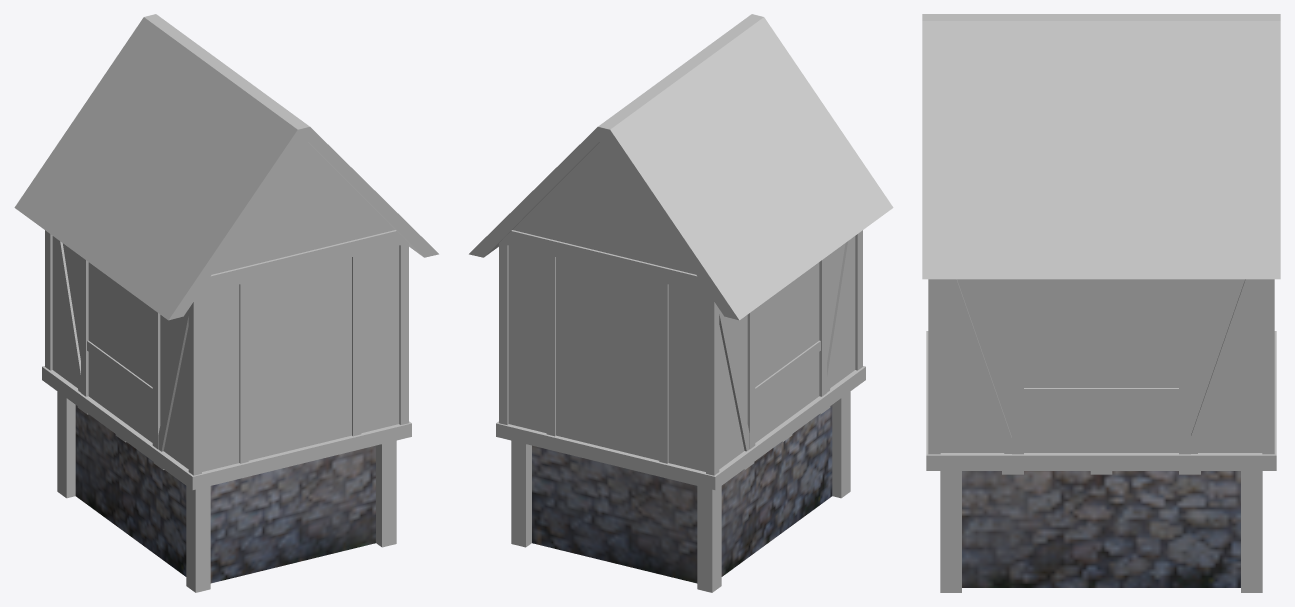
Rendered from MS_House_Medium_1.fbx.
3 views of the same model, side by side, from view 1: azimuth 30°, elevation 25°; view 2: azimuth 150°, elevation 25°; view 3: azimuth 270°, elevation 25° (orthographic). The views are drawn at different scales.
Parts seen in each view (by area): view 1: Cube; view 2: Cube; view 3: Cube.
Boxes of the visible parts, x1,y1,x2,y2 form: Cube: (14, 14, 438, 592); Cube: (469, 14, 893, 592); Cube: (922, 14, 1280, 592).
Bounding box in the file's own units: 741 × 1165 × 729.
